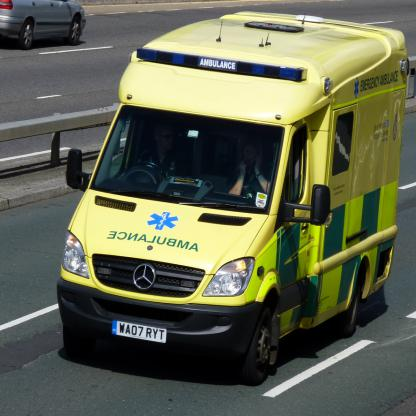Ambulance: (56, 13, 411, 384)
